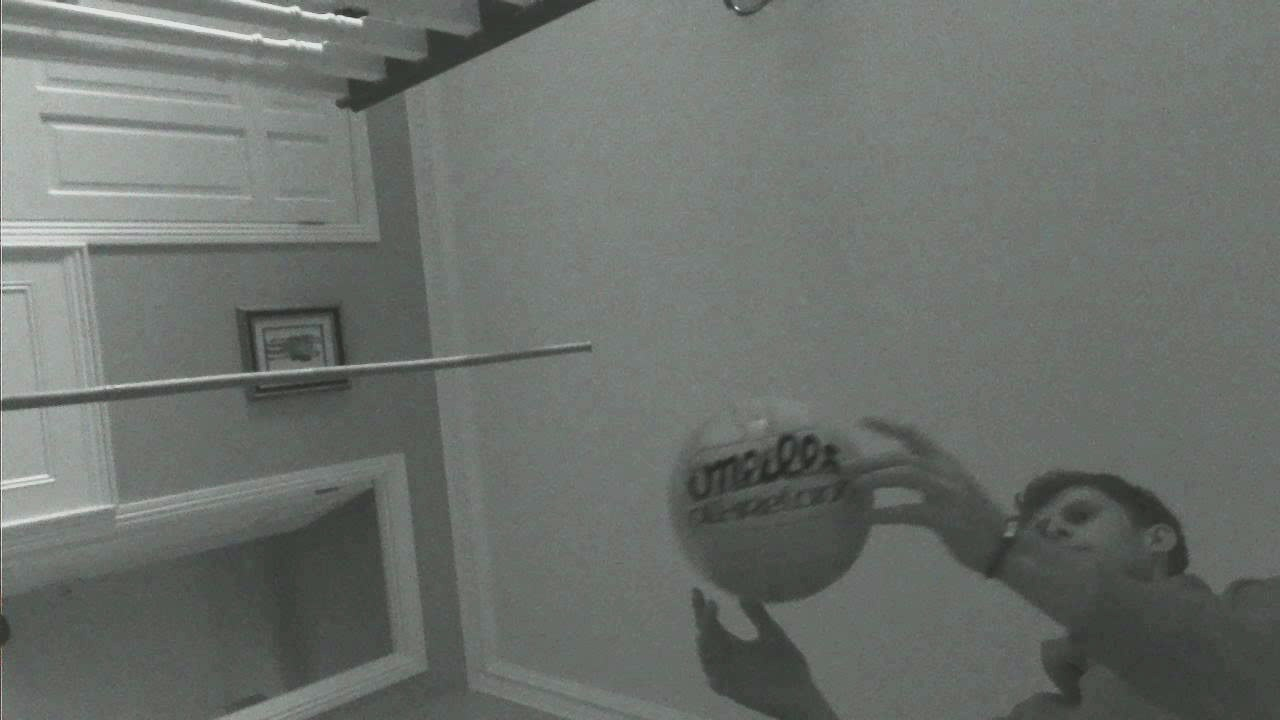Football-Spotter: (668, 399, 872, 601)
